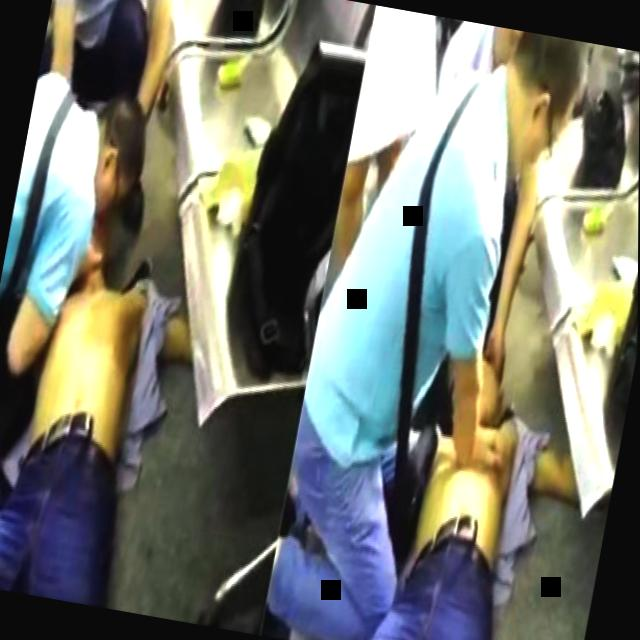Fall-Detected: (339, 308, 595, 640)
